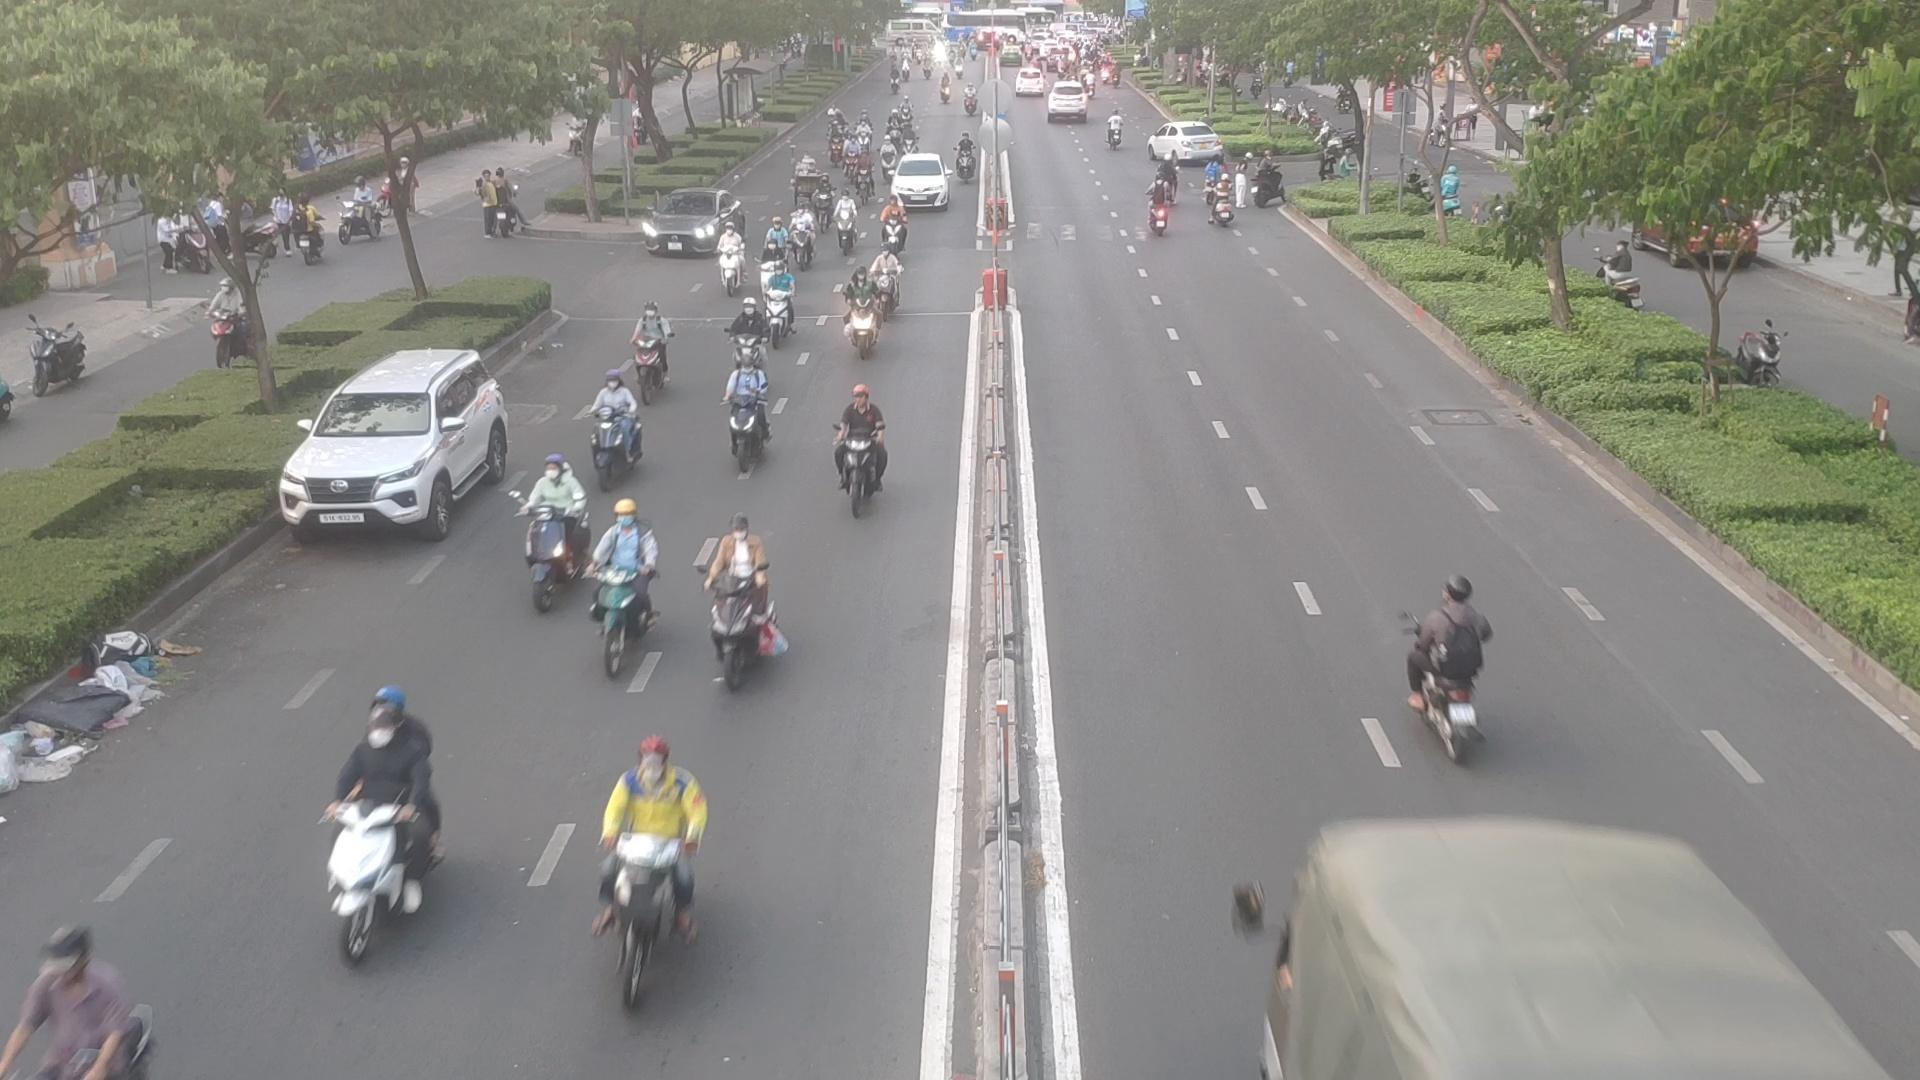car: (280, 353, 514, 543), (644, 190, 738, 257), (1149, 117, 1222, 167), (891, 152, 952, 208)
motorbike: (567, 738, 703, 1025), (324, 698, 435, 953), (1396, 562, 1487, 789), (704, 516, 775, 680), (514, 454, 587, 611), (596, 498, 654, 665), (584, 372, 644, 495), (833, 390, 882, 513), (629, 301, 678, 400), (727, 363, 767, 462), (760, 272, 799, 345), (868, 236, 902, 319), (843, 272, 876, 347), (715, 225, 746, 291), (880, 200, 905, 257), (951, 132, 977, 185), (1147, 173, 1171, 231), (791, 204, 814, 264), (833, 187, 853, 255), (1215, 175, 1233, 237), (811, 175, 832, 223), (855, 158, 876, 204), (841, 135, 861, 175), (827, 125, 844, 166), (855, 117, 873, 150), (898, 127, 914, 157), (880, 137, 891, 170)
